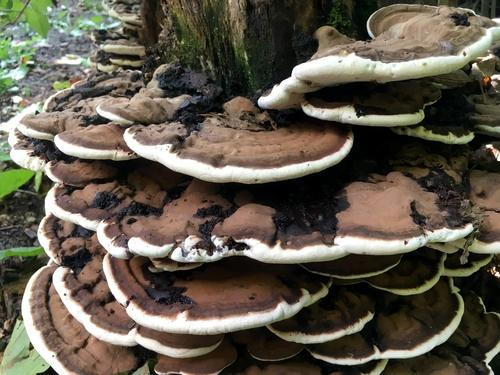Ganoderma - Fruit Body: (48, 192, 500, 261), (255, 4, 500, 126), (102, 261, 329, 334), (129, 128, 358, 182), (53, 36, 189, 123), (334, 294, 465, 364), (23, 266, 98, 375), (134, 337, 239, 375), (369, 260, 446, 294), (57, 125, 131, 160), (42, 159, 128, 187), (20, 111, 53, 140), (448, 262, 498, 278)
